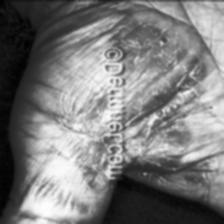Non-Cancerous Skin Condition: (57, 114, 101, 183)
